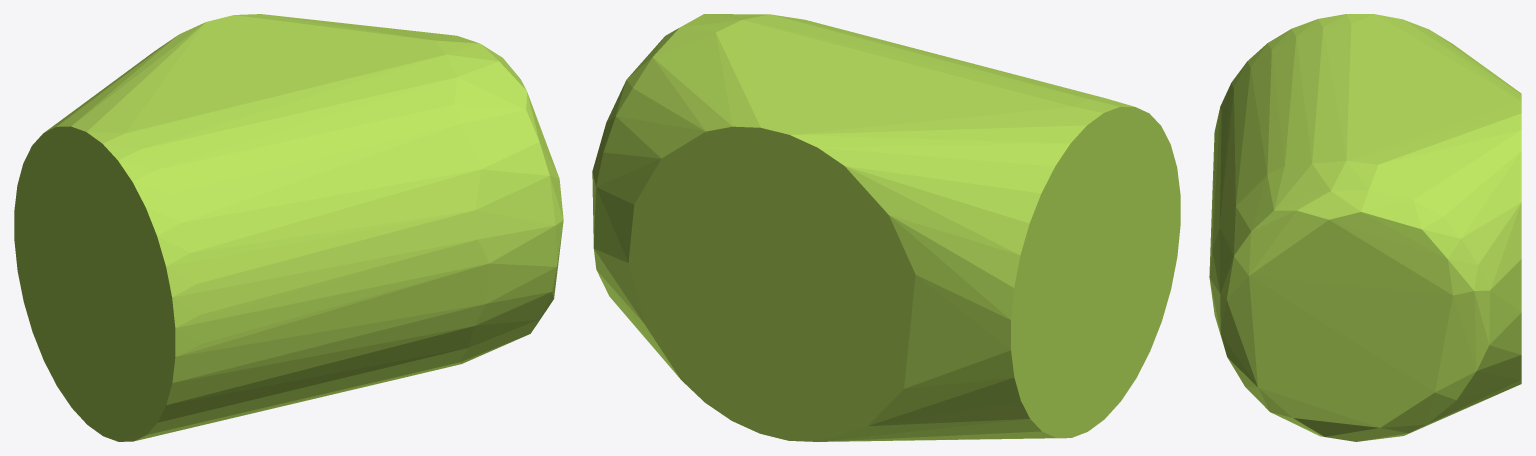
Rendered from UR3_link_3_coll_4.dae.
The picture shows the model from 3 angles, left to right: view 1: azimuth 30°, elevation 25°; view 2: azimuth 150°, elevation 25°; view 3: azimuth 270°, elevation 25°; orthographic projection. The views are drawn at different scales.
Parts seen in each view (by area): view 1: Node_000002D0E99FA340; view 2: Node_000002D0E99FA340; view 3: Node_000002D0E99FA340.
Boxes of the visible parts, box(x1,y1,x2,y2) form: Node_000002D0E99FA340: box(14, 14, 563, 441); Node_000002D0E99FA340: box(592, 14, 1180, 441); Node_000002D0E99FA340: box(1209, 14, 1521, 441).
Bounding box in the file's own units: 0.0945 × 0.0642 × 0.0674.
